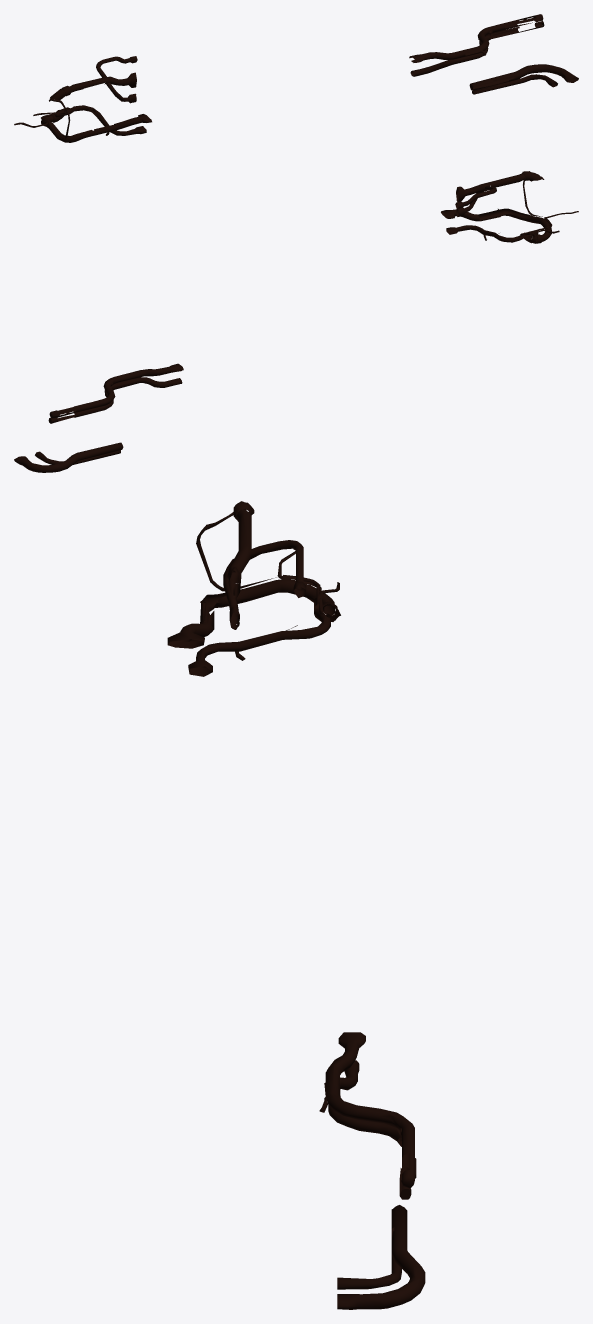
The picture shows the model from 3 angles, top to bottom: view 1: azimuth 30°, elevation 25°; view 2: azimuth 210°, elevation 25°; view 3: azimuth 270°, elevation 25°; orthographic projection. The views are drawn at different scales.
Visible parts, largest first — view 1: node; view 2: node; view 3: node.
Part boxes in pixels (x1,y1,x2,y2): node: (14,14,578,142); node: (14,171,578,472); node: (167,501,425,1309).
Bounding box in the file's own units: 1.07 × 0.2084 × 0.266.
